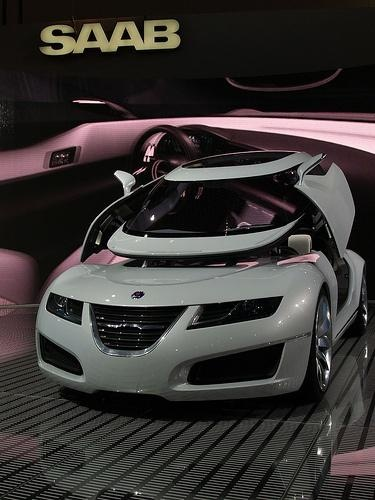car: (33, 148, 371, 416)
